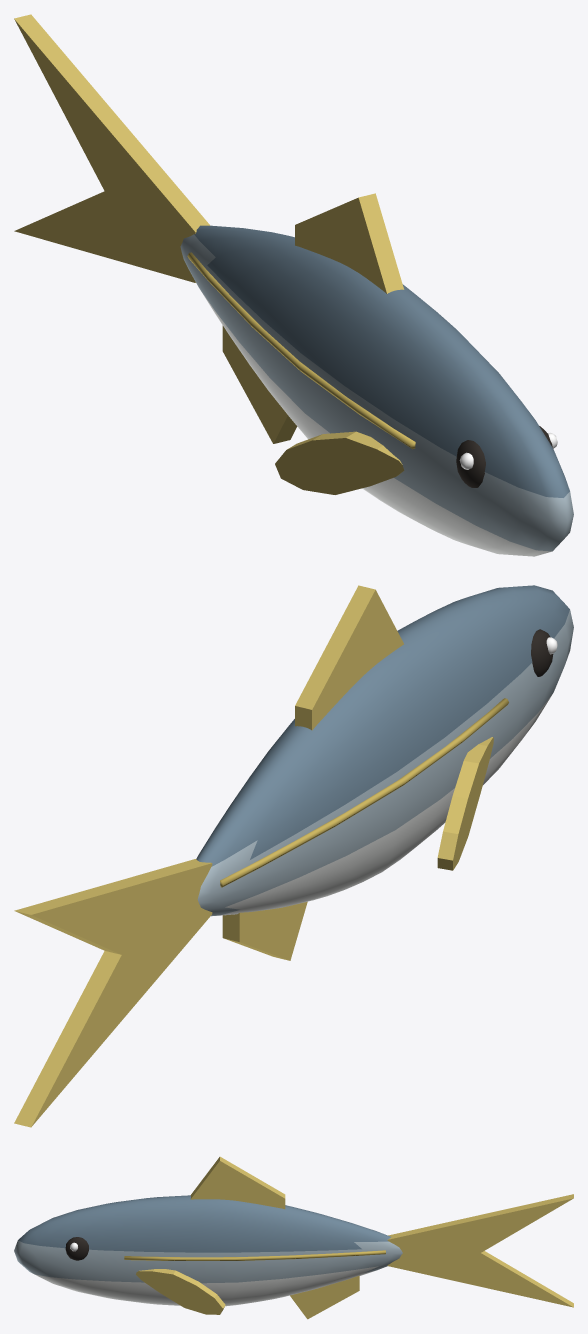
File: fish-horse-mackerel.glb
The picture shows the model from 3 angles, top to bottom: view 1: azimuth 30°, elevation 25°; view 2: azimuth 150°, elevation 25°; view 3: azimuth 270°, elevation 25°; orthographic projection. The views are drawn at different scales.
Parts seen in each view (by area): view 1: fish; view 2: fish; view 3: fish.
Part boxes in pixels (x1,y1,x2,y2): fish: (14,14,573,556); fish: (14,585,573,1127); fish: (14,1156,573,1319).
Bounding box in the file's own units: 0.0623 × 0.1033 × 0.33.
